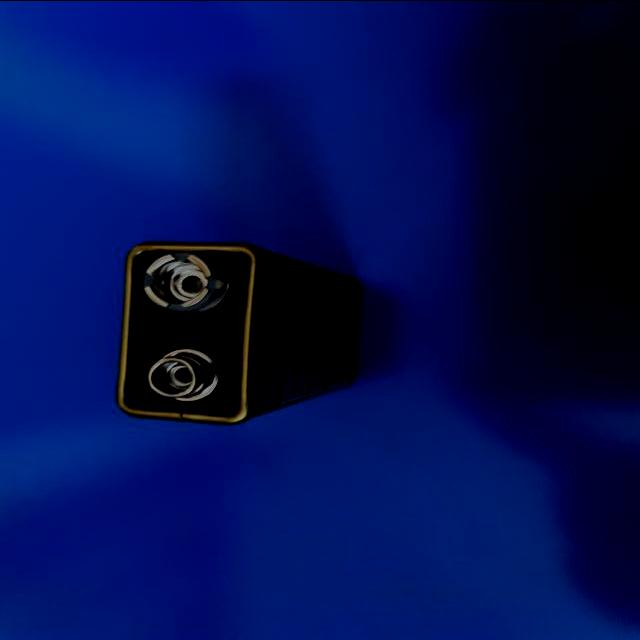9V: (115, 241, 358, 422)
